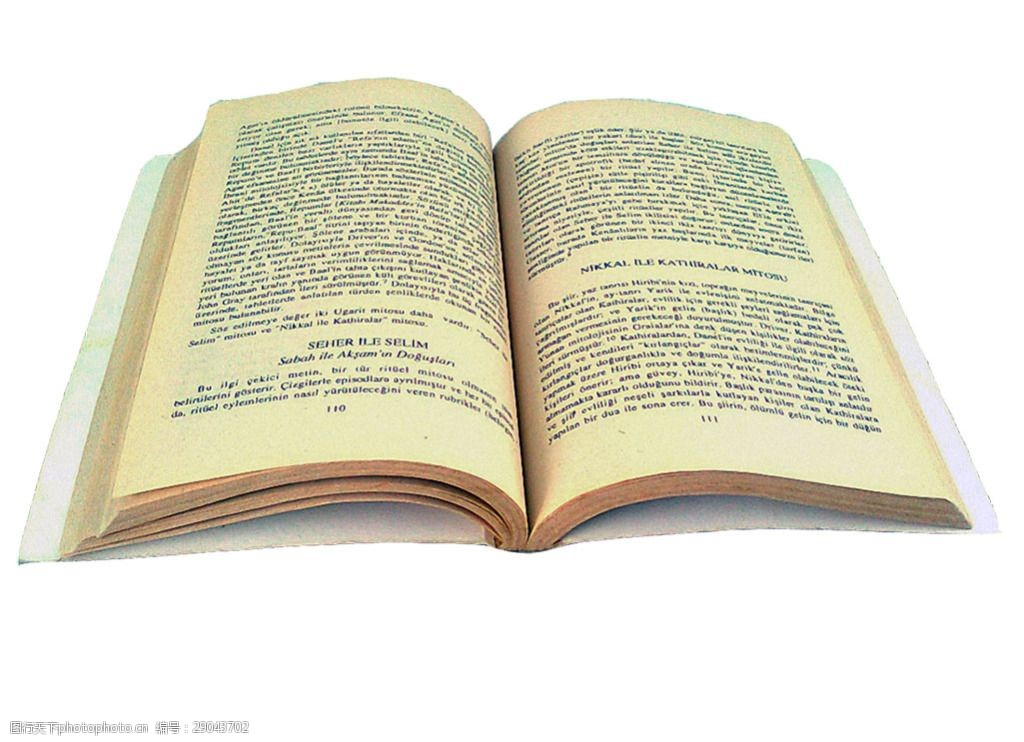book: (2, 75, 1000, 562)
